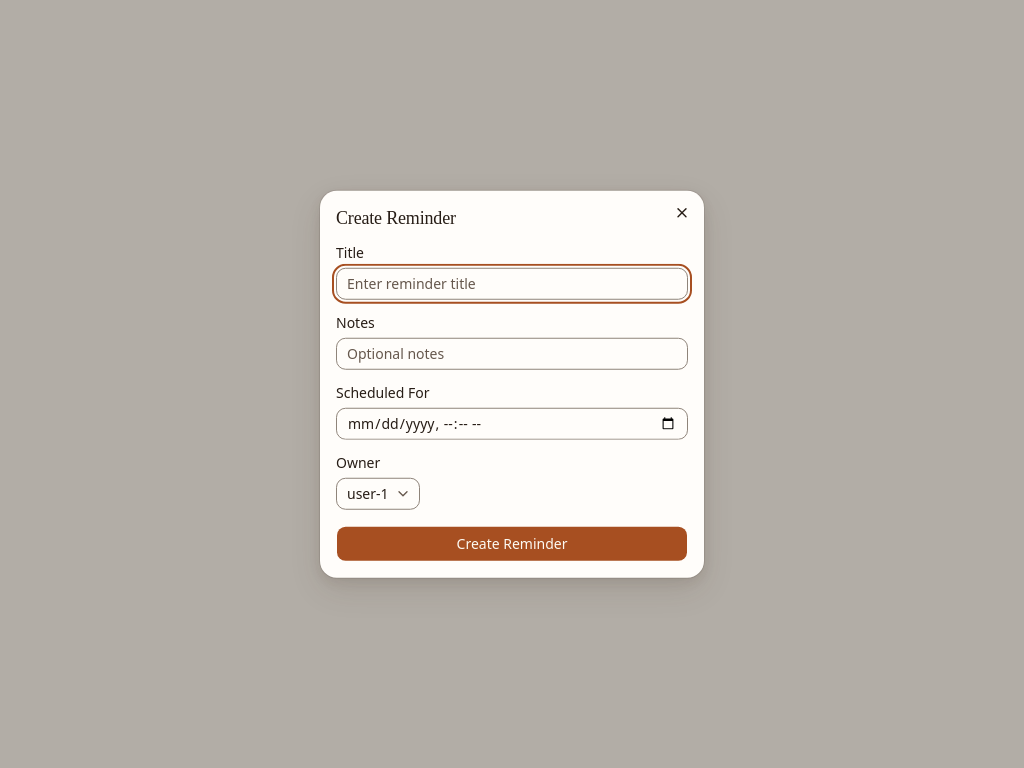
Test: CreateReminderDialog › shows validation error when submitting empty title
Type "2026-04-01T10:00" into the field labelled "Scheduled For" at (512, 423), box x1=336 y1=407 x2=688 y2=439
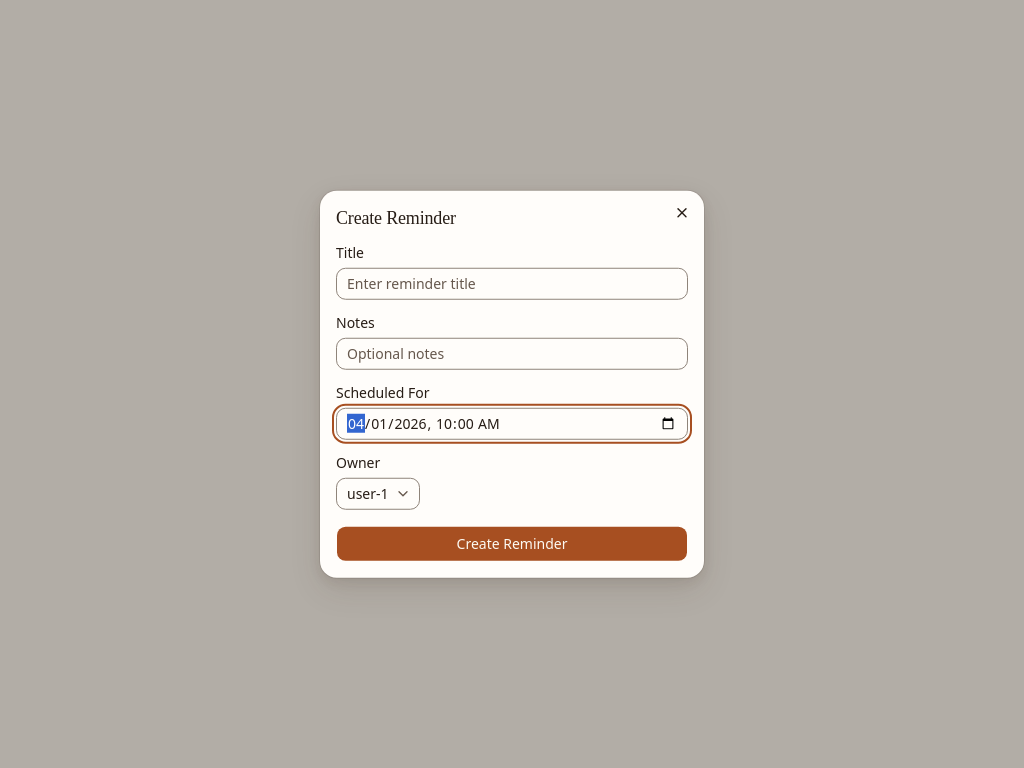
Click the button "Create Reminder" at (512, 543), box x1=336 y1=525 x2=688 y2=561
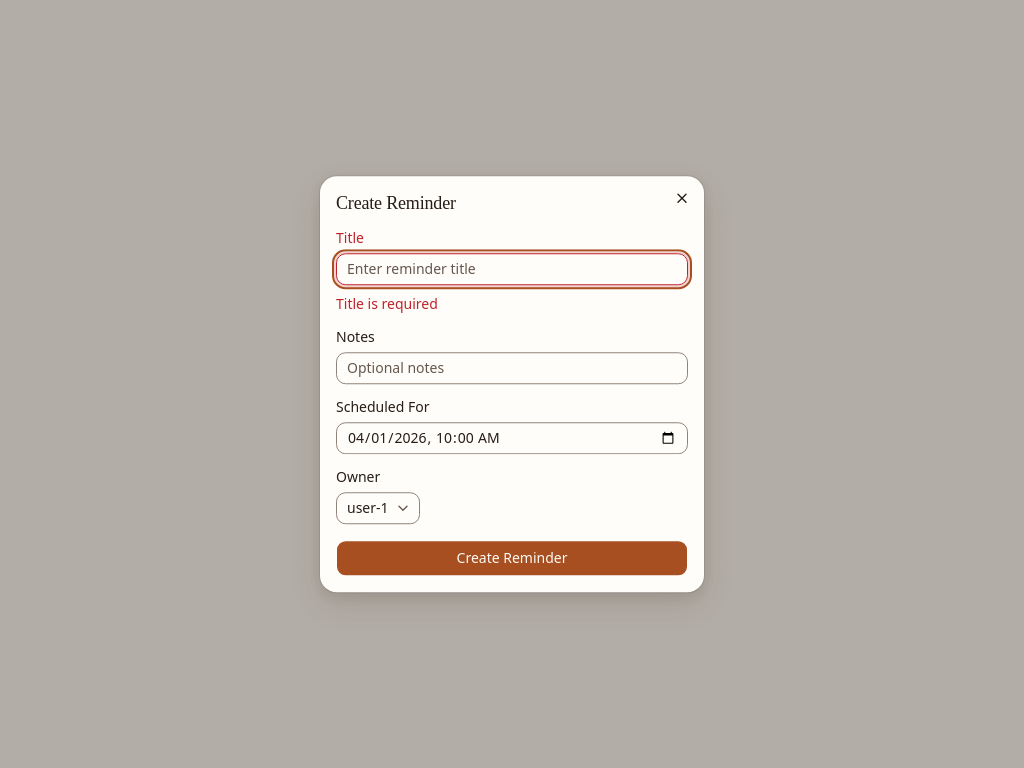
Expected: the text "Title is required" is shown, x1=336 y1=294 x2=438 y2=313
